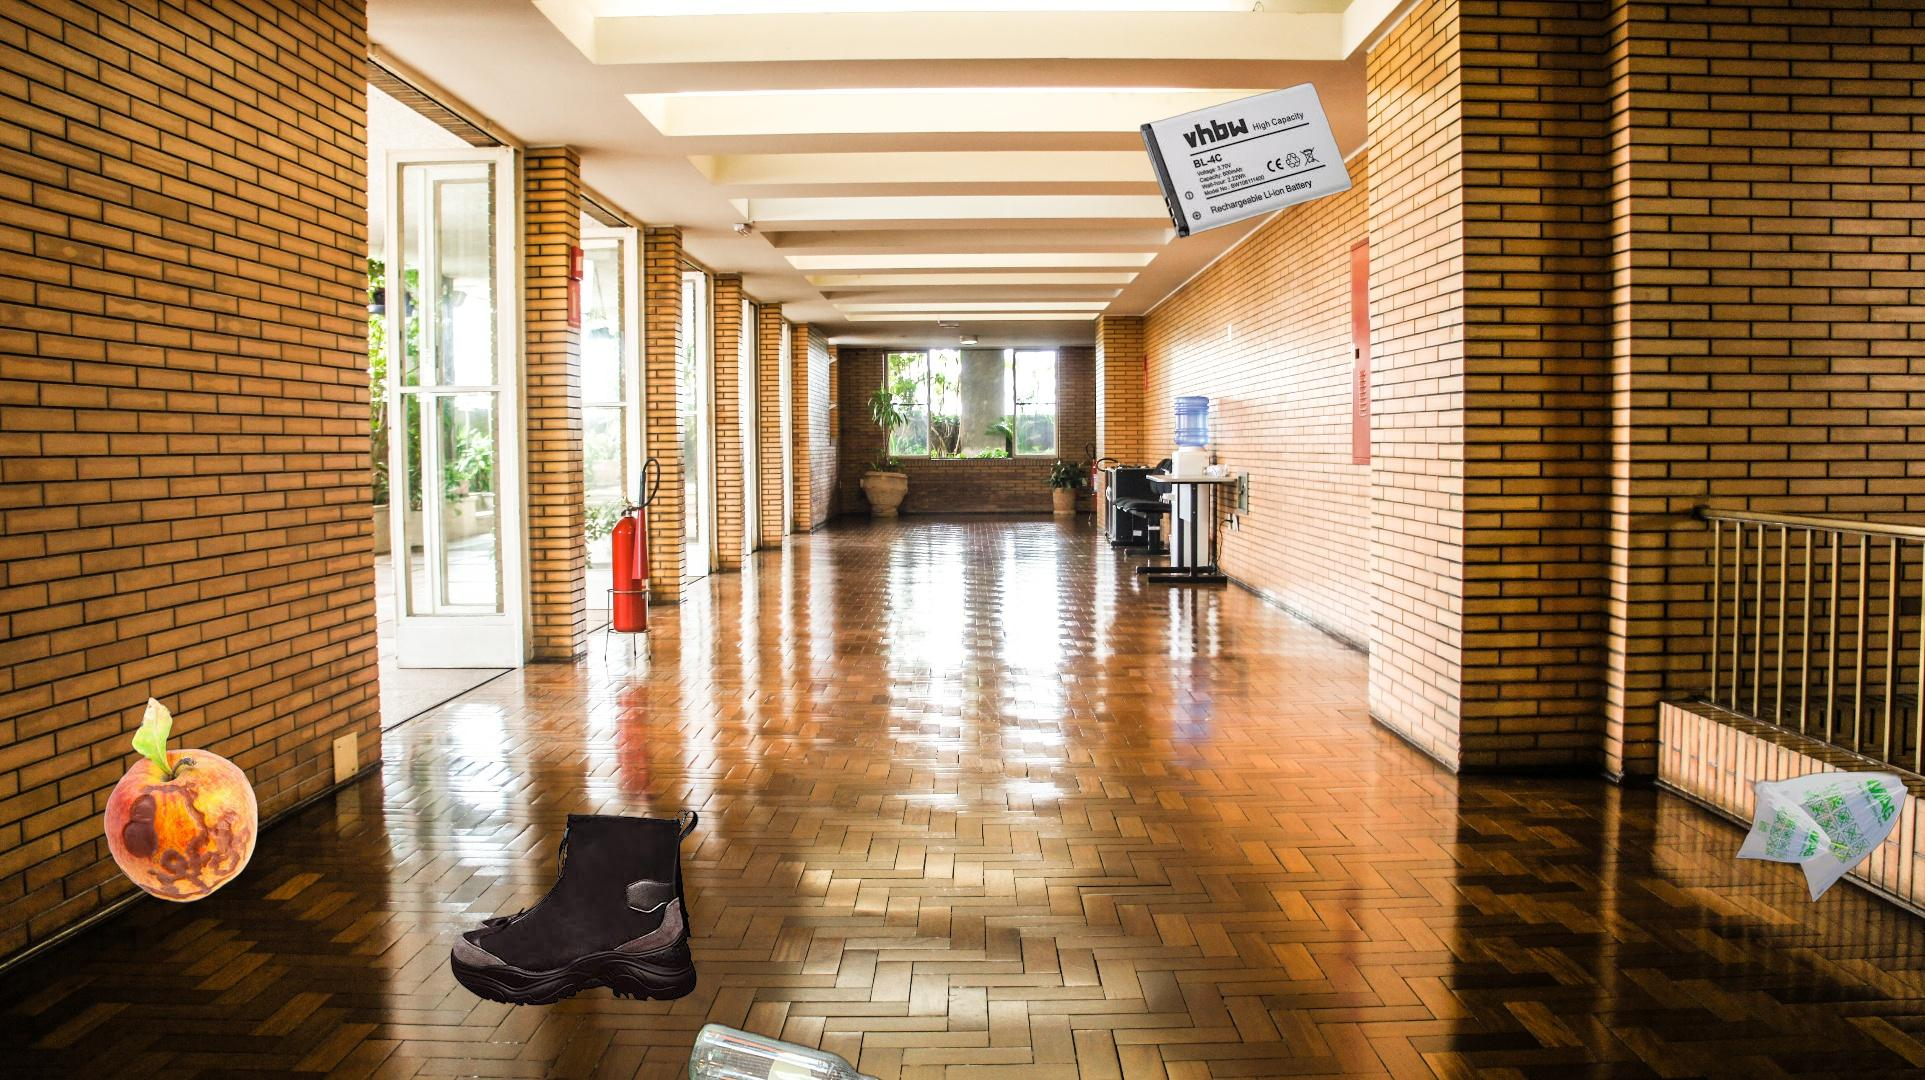battery: (1137, 79, 1355, 241)
biological: (100, 694, 260, 906)
glass: (684, 1017, 929, 1080)
plastic-bag: (1732, 768, 1910, 906)
shoes: (448, 806, 699, 1009)
